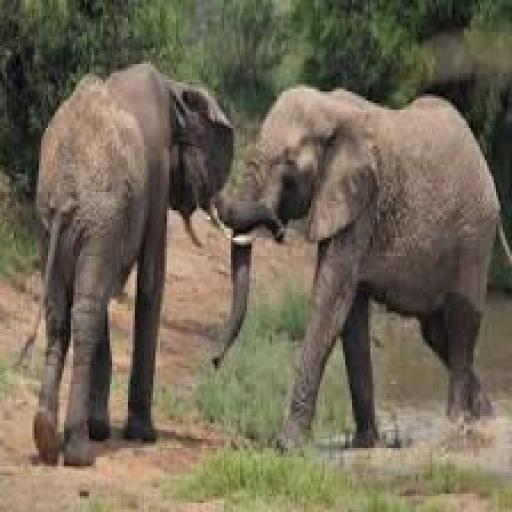Elephant: (21, 57, 272, 456), (228, 82, 500, 442)
